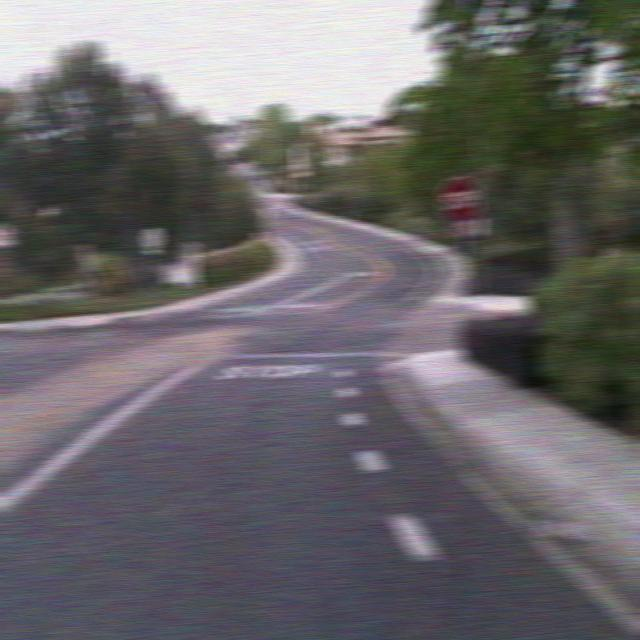stop_sign: (438, 173, 482, 227)
